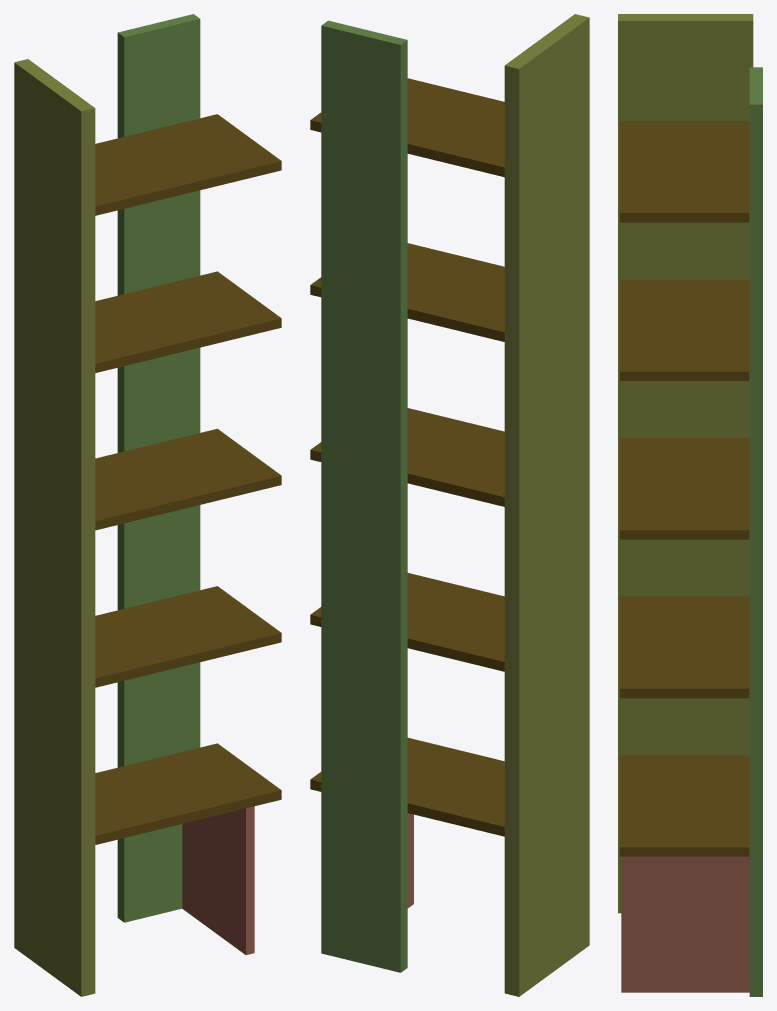
File: polka2.fbx
3 views of the same model, side by side, from view 1: azimuth 30°, elevation 25°; view 2: azimuth 150°, elevation 25°; view 3: azimuth 270°, elevation 25° (orthographic). The views are drawn at different scales.
Parts seen in each view (by area): view 1: Cube.019, Cube.017, Cube.018, Cube.020; view 2: Cube.018, Cube.019, Cube.017, Cube.020; view 3: Cube.017, Cube.019, Cube.020, Cube.018.
Part boxes in pixels (x1,y1,x2,y2): Cube.019: [14, 59, 95, 996]; Cube.017: [95, 114, 281, 844]; Cube.018: [117, 14, 200, 922]; Cube.020: [182, 806, 254, 954]; Cube.018: [321, 20, 407, 972]; Cube.019: [504, 14, 589, 996]; Cube.017: [310, 78, 504, 836]; Cube.020: [407, 813, 413, 908]; Cube.017: [620, 121, 749, 856]; Cube.019: [618, 14, 753, 913]; Cube.020: [621, 838, 749, 992]; Cube.018: [749, 67, 762, 996].
Size of the model in its own units: 44.36 by 186 by 27.43.
